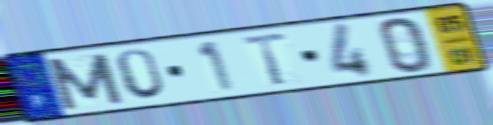0: (376, 15, 434, 75), (114, 47, 167, 102)
1: (194, 38, 237, 94)
4: (327, 20, 375, 81)
M: (41, 51, 128, 112)
T: (240, 30, 291, 88)
